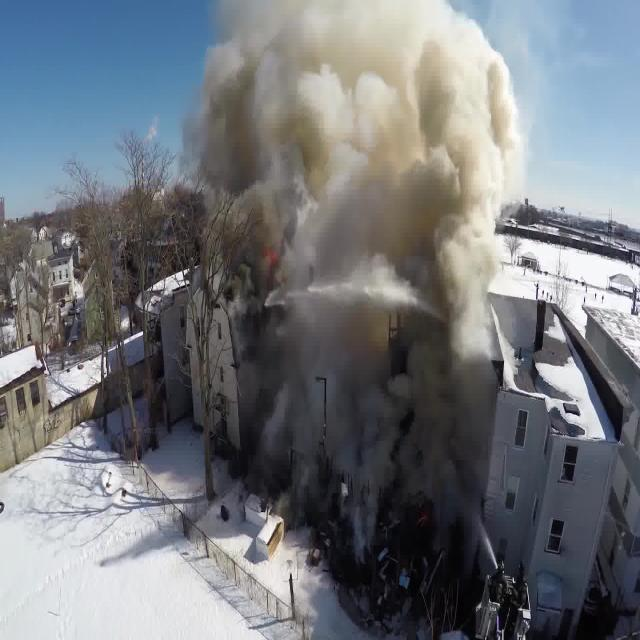Smoke: (145, 0, 524, 575)
